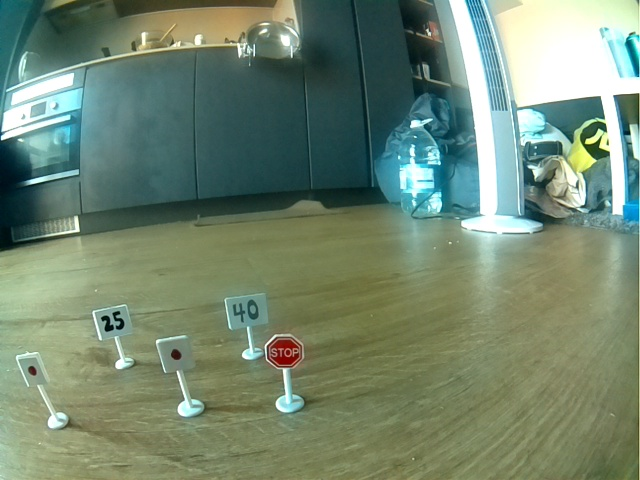red light: (161, 339, 189, 371), (19, 355, 44, 385)
speed 25: (96, 308, 131, 336)
speed 40: (228, 298, 265, 326)
stop: (267, 336, 304, 368)
